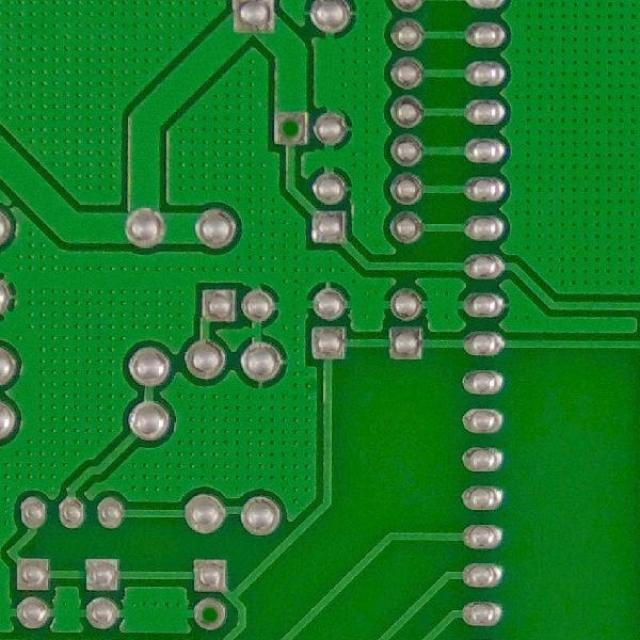missing_hole: (193, 597, 232, 639), (274, 111, 311, 150)
